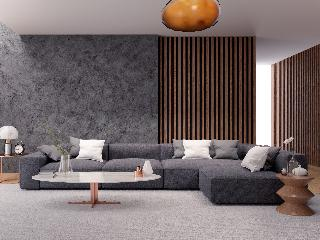potato: (160, 0, 220, 33)
